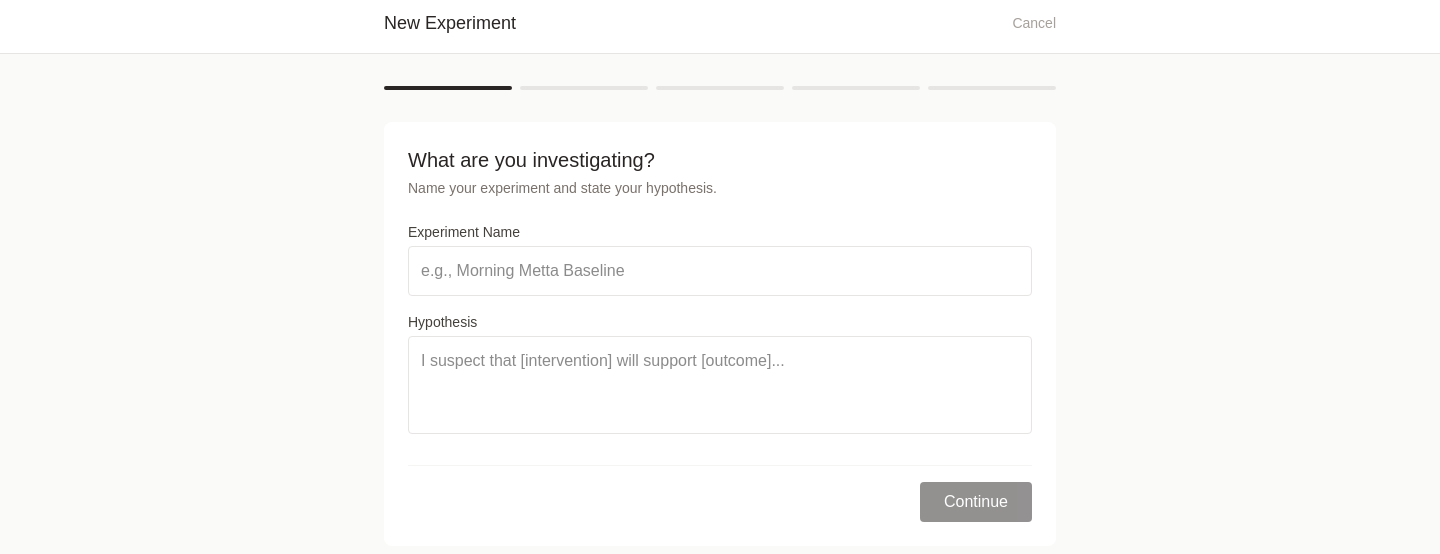
CreateExperiment › Step 3: Metrics › renders metrics step with default metric
The image size is (1440, 554).
Type "Test" into the field with placeholder "e.g., Morning Metta Baseline" at (720, 271), box [408,246,1032,296]
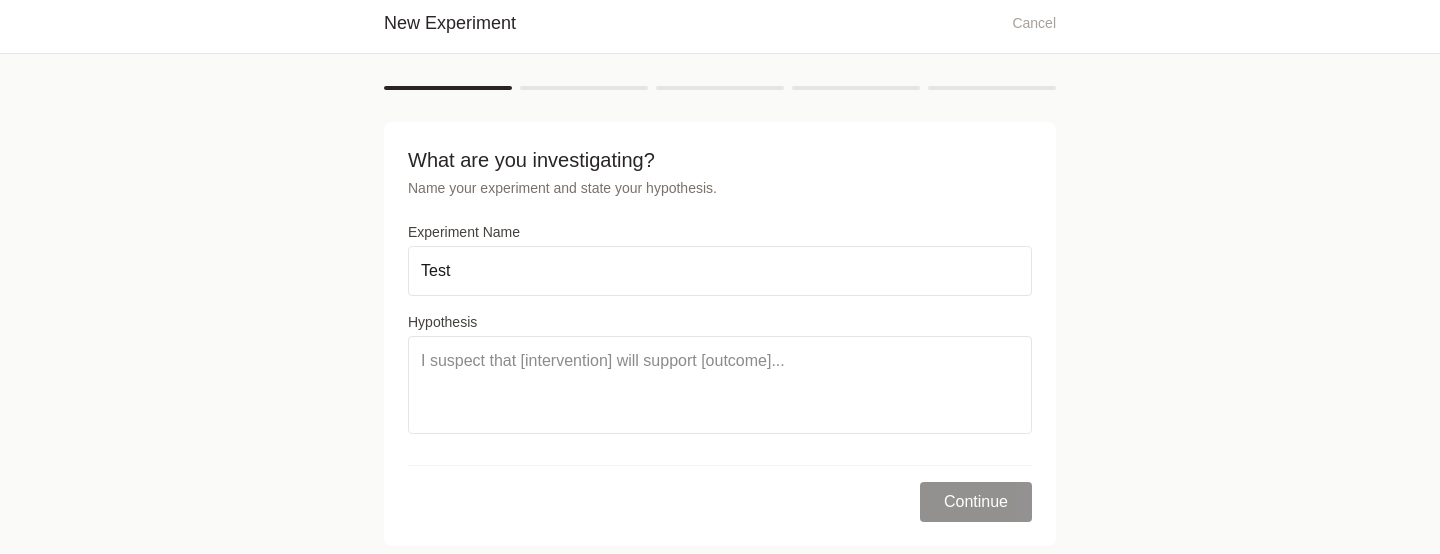
Type "Hypothesis" into the text box with placeholder "I suspect that [intervention] will support [outcome]..." at (720, 385), box [408,336,1032,434]
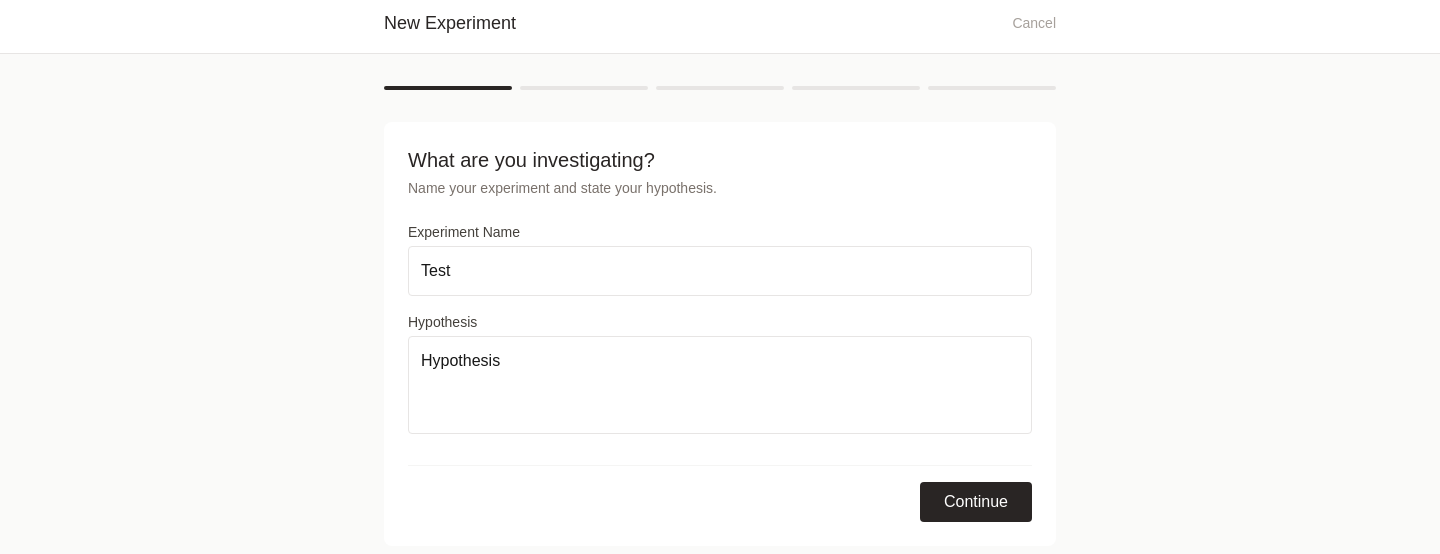
Click the button "Continue" at (976, 502), box [920,482,1032,522]
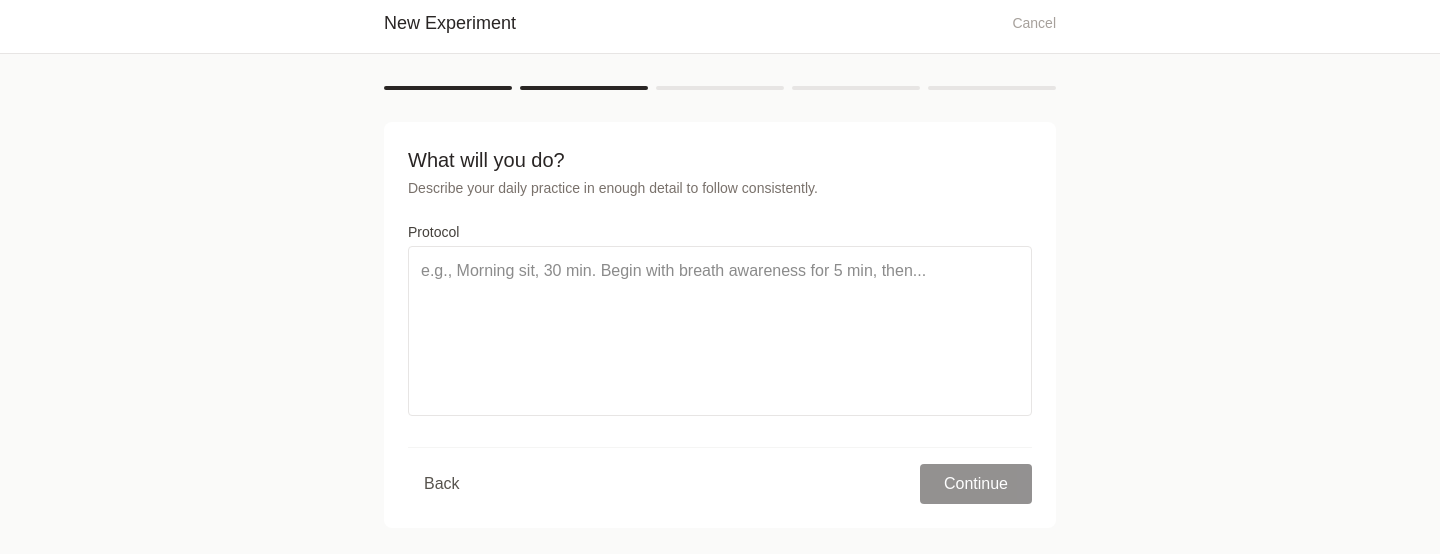
Replace the text in the text box with placeholder "Morning sit" with "Protocol" at (720, 331), box [408,246,1032,416]
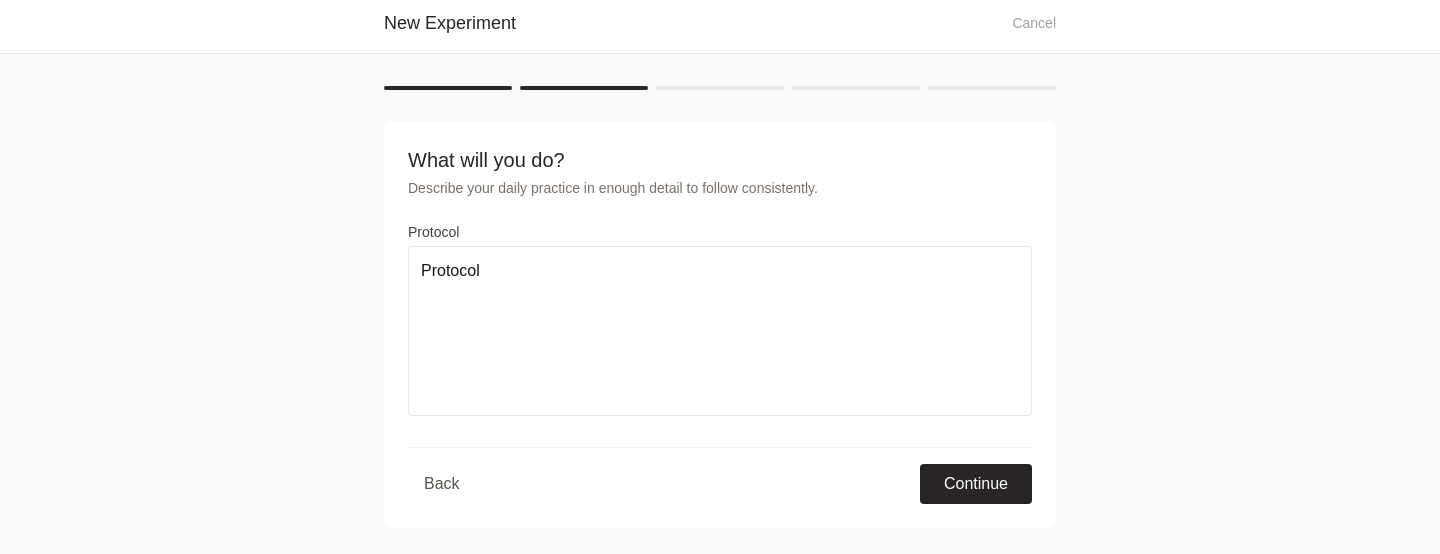
Click the button "Continue" at (976, 484), box [920,464,1032,504]
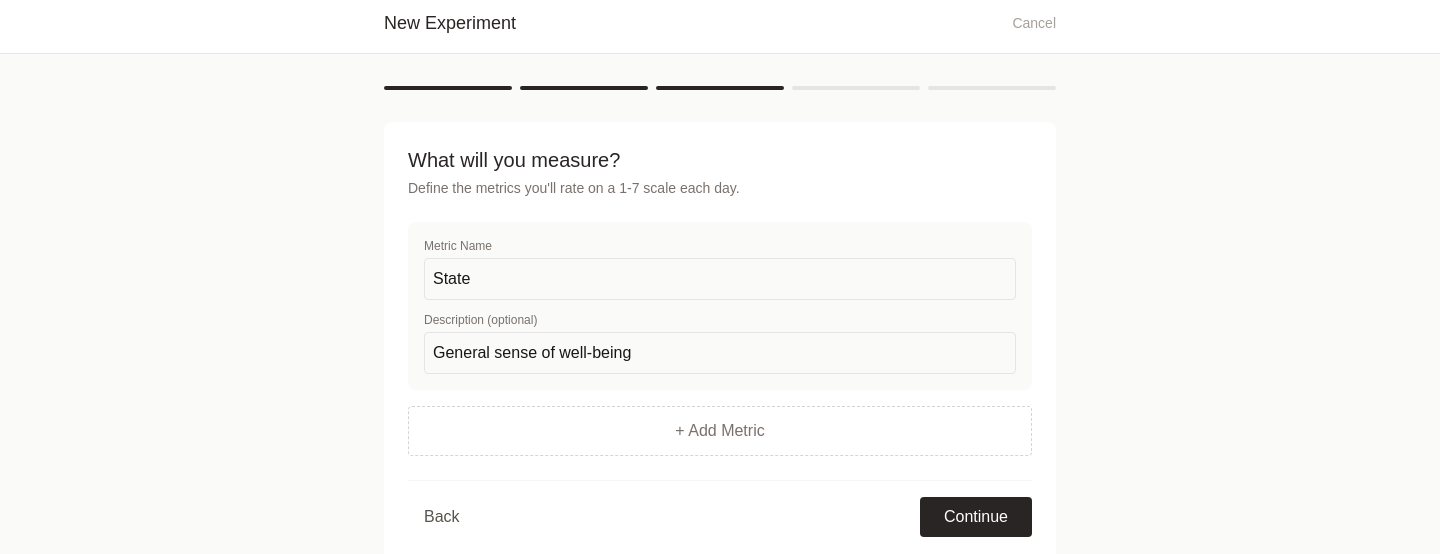
Expected: the heading "What will you measure?" is shown, [408,149,620,171]
Expected: the field showing "State" below "Metric Name" is shown, [424,258,1016,300]
